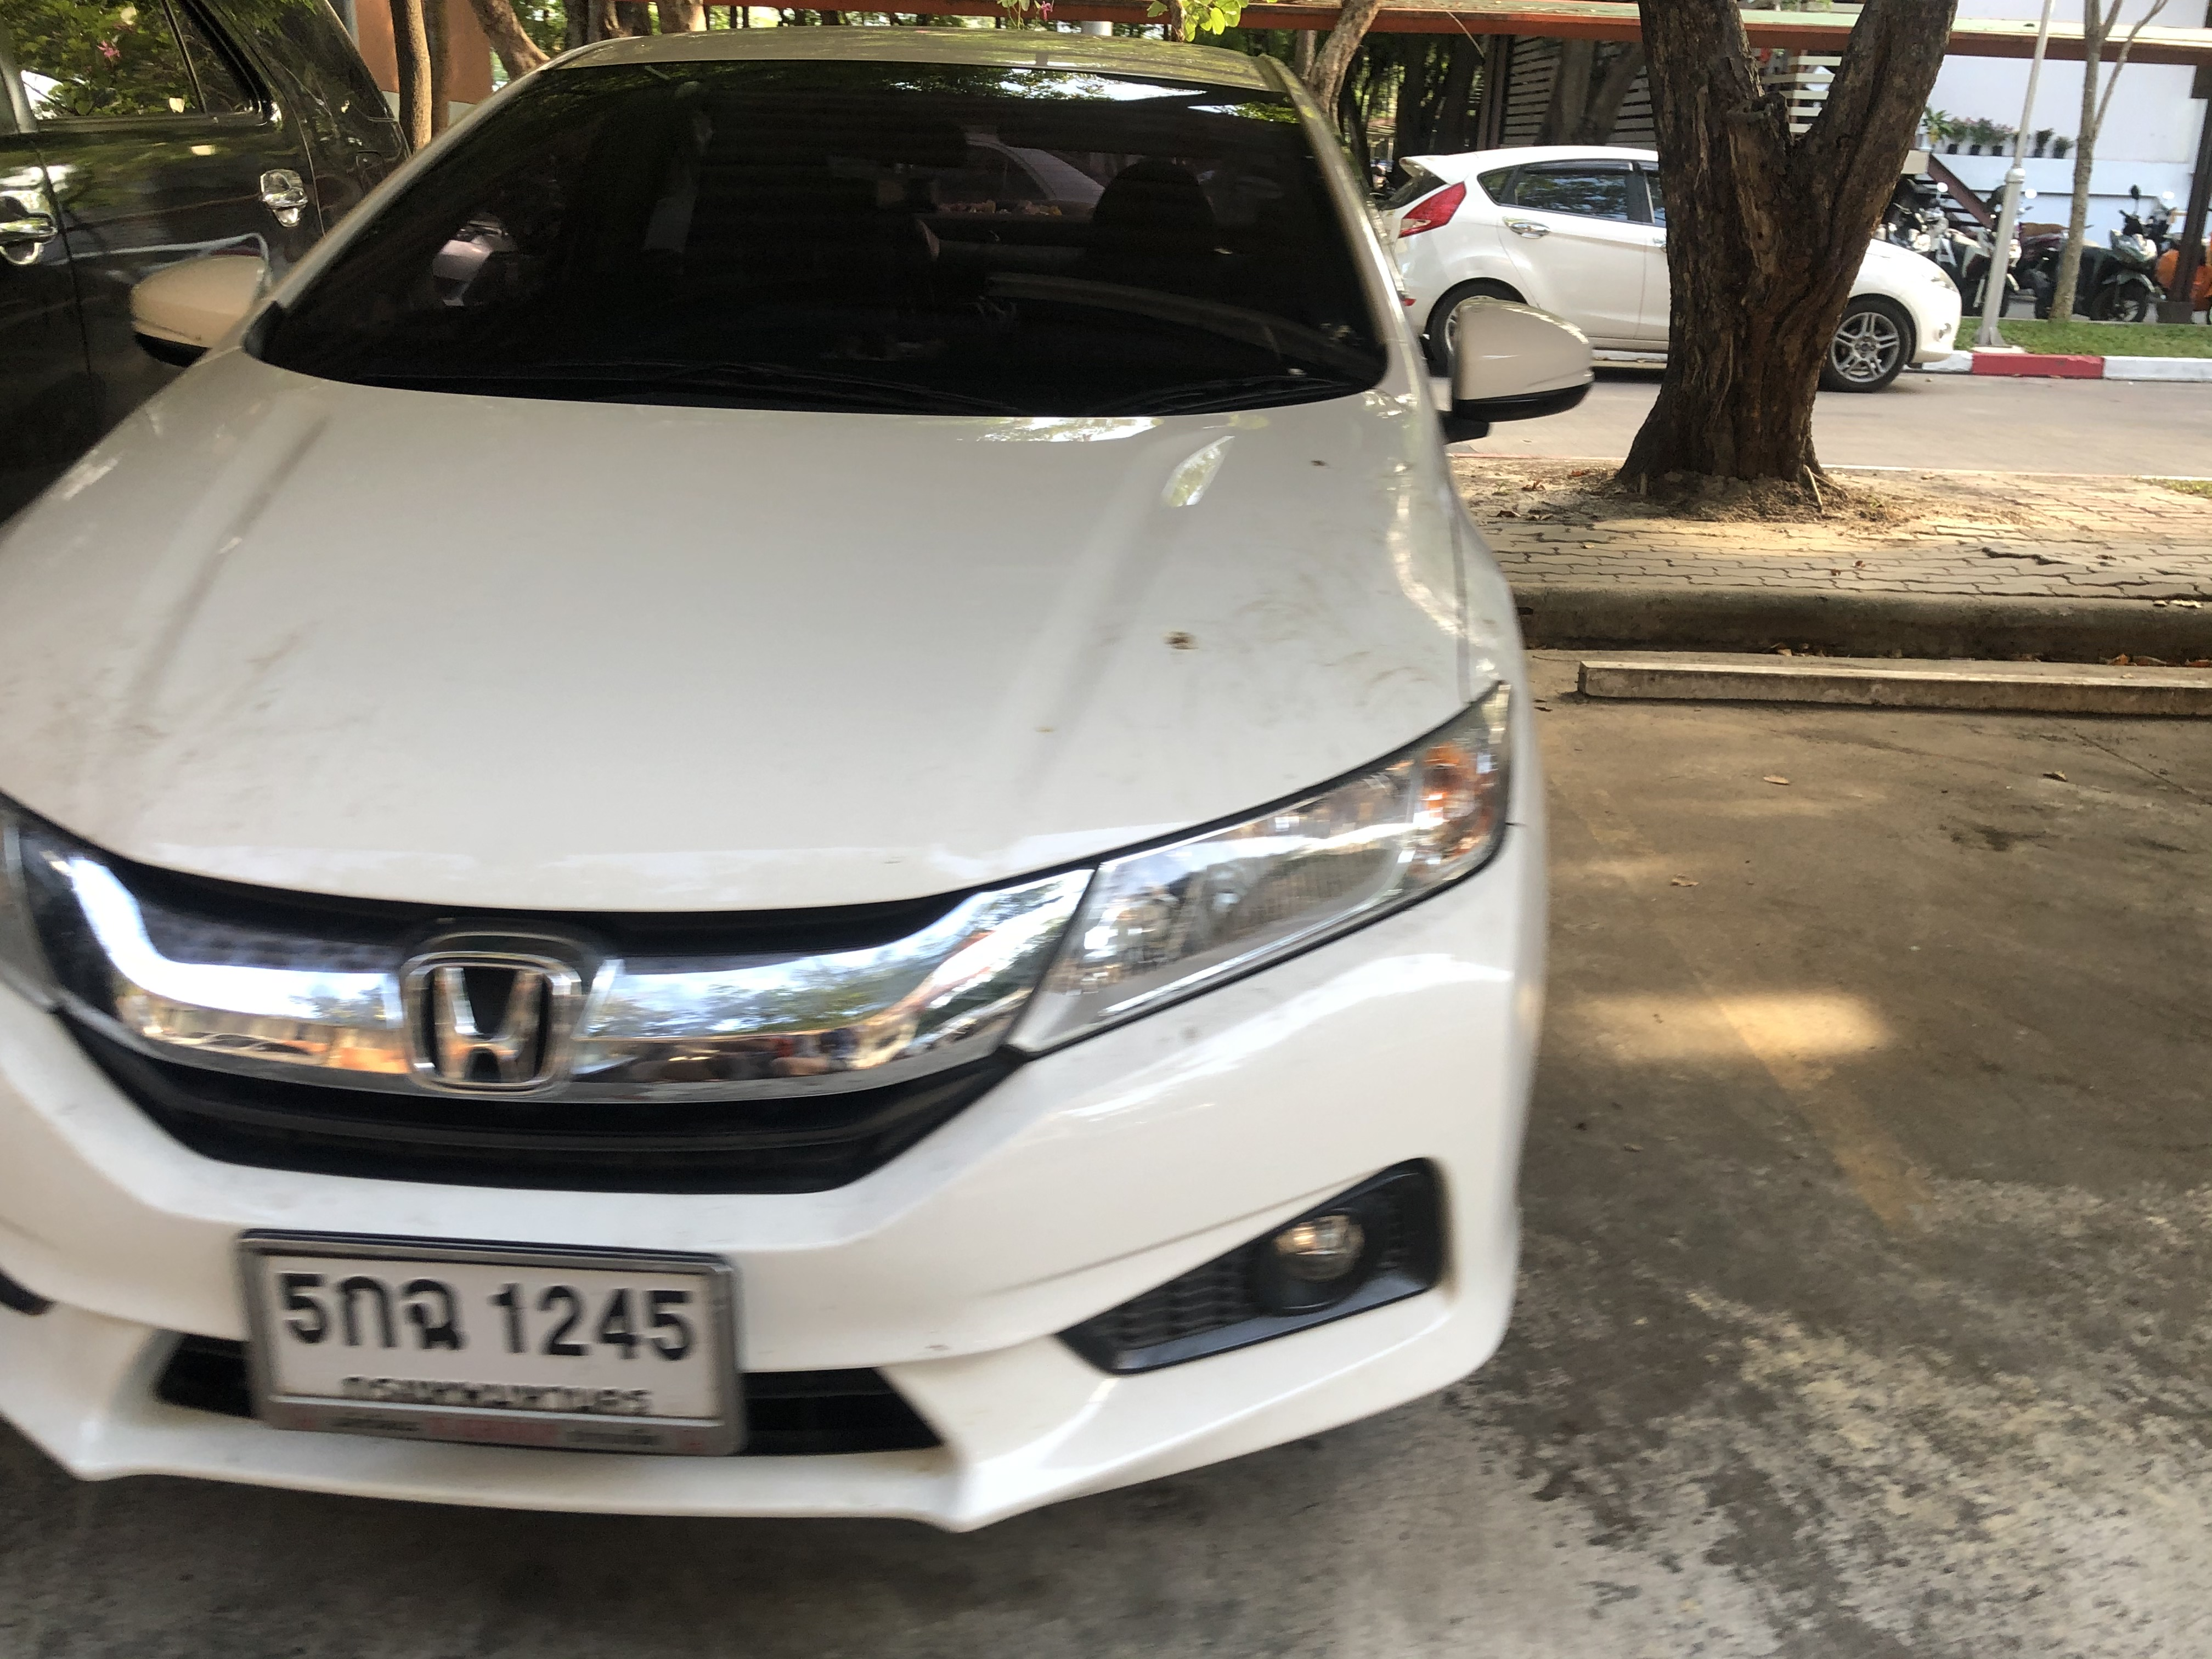in: (263, 1251, 721, 1422)
out: (235, 1223, 754, 1452)
